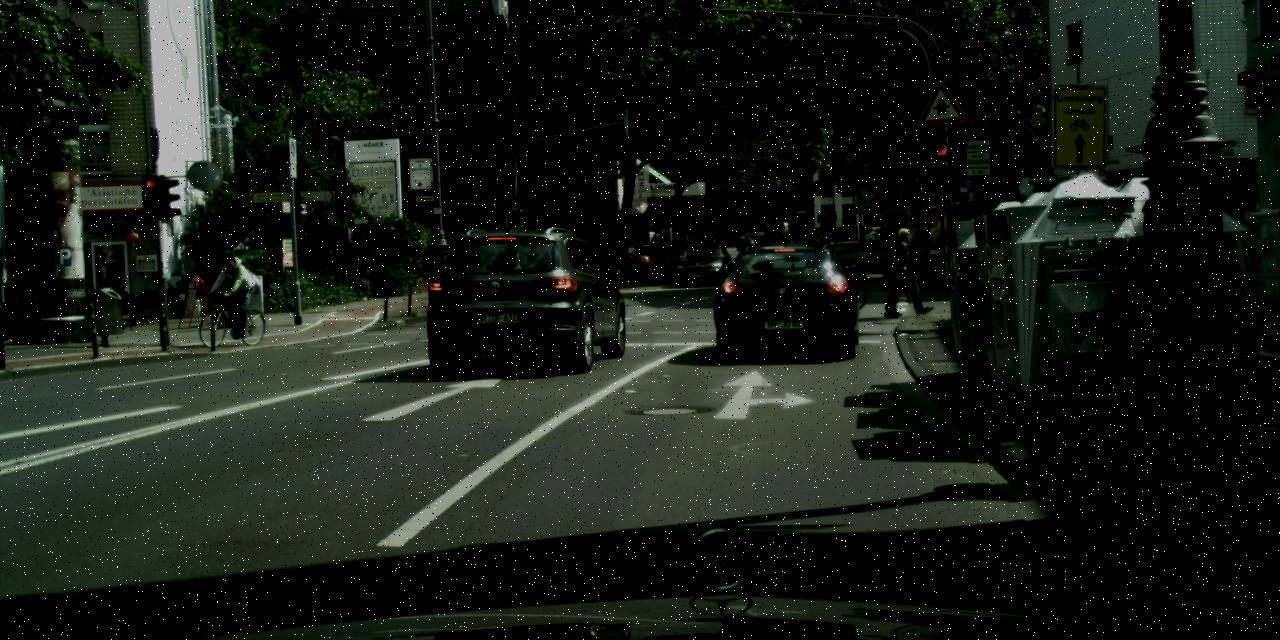ped: (888, 227, 922, 314), (219, 250, 251, 331), (813, 230, 840, 298), (840, 225, 846, 241), (858, 224, 864, 240), (788, 227, 794, 242), (808, 228, 813, 242), (775, 228, 779, 240)
